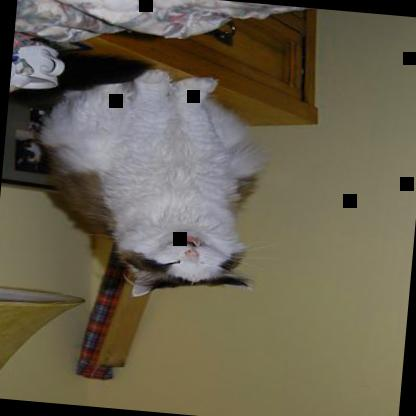cat: (28, 61, 272, 306)
